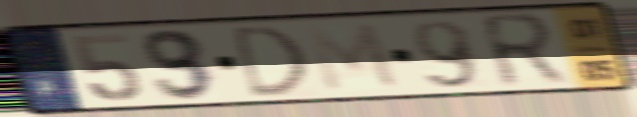5: (68, 31, 144, 104)
9: (138, 26, 221, 103), (412, 18, 483, 90)
D: (228, 21, 311, 101)
M: (300, 21, 405, 95)
R: (474, 10, 573, 93)
